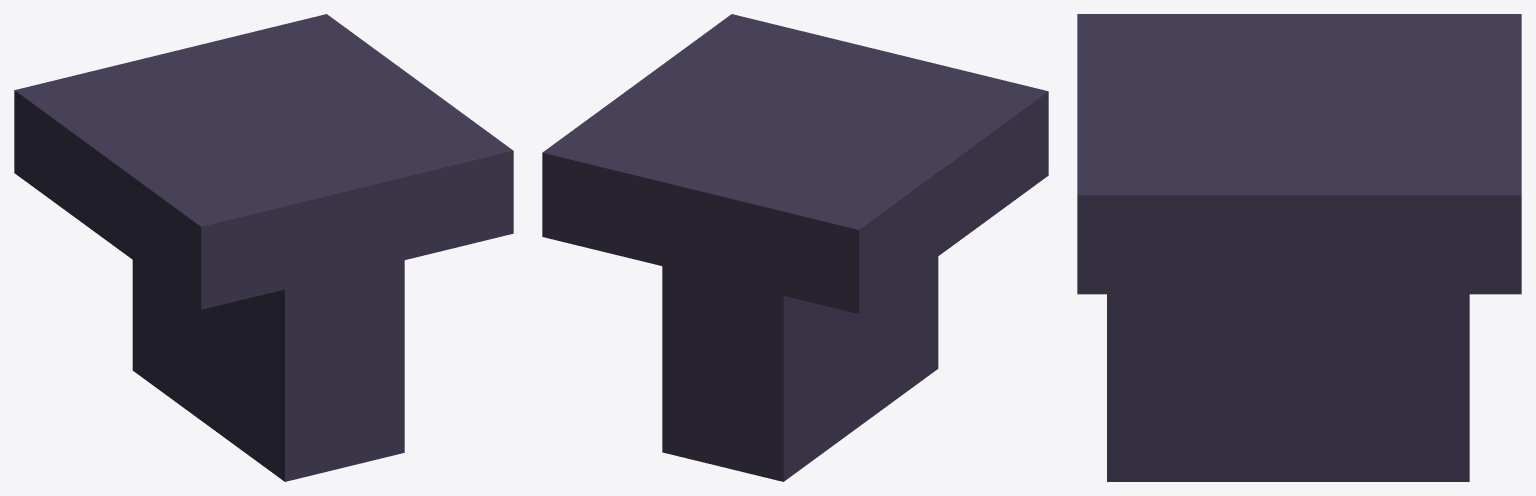
File: PilotMechWaist.gltf
The picture shows the model from 3 angles, left to right: view 1: azimuth 30°, elevation 25°; view 2: azimuth 150°, elevation 25°; view 3: azimuth 270°, elevation 25°; orthographic projection. The views are drawn at different scales.
Parts seen in each view (by area): view 1: Waist; view 2: Waist; view 3: Waist.
Part boxes in pixels (left/top/right/bottom): Waist: left=14, top=14, right=513, bottom=481; Waist: left=542, top=14, right=1048, bottom=481; Waist: left=1077, top=14, right=1521, bottom=481.
Bounding box in the file's own units: 0.385 × 0.339 × 0.3987.
